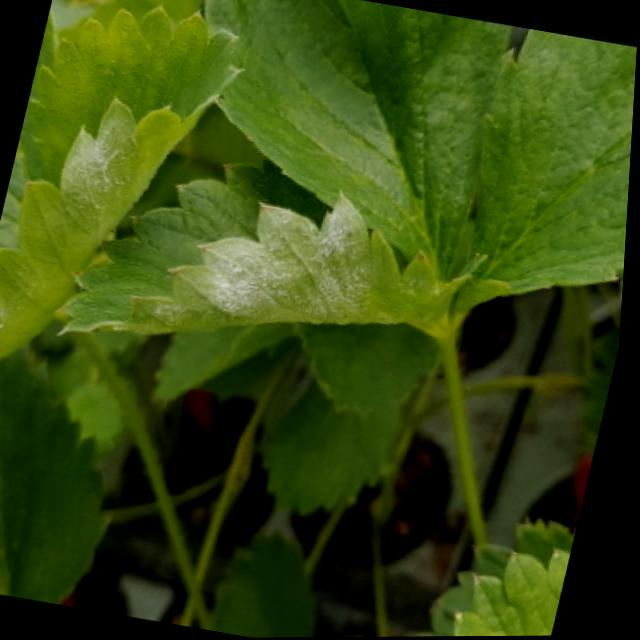Powdery Mildew Leaf: (0, 6, 248, 360), (58, 154, 478, 350), (458, 547, 577, 637)
